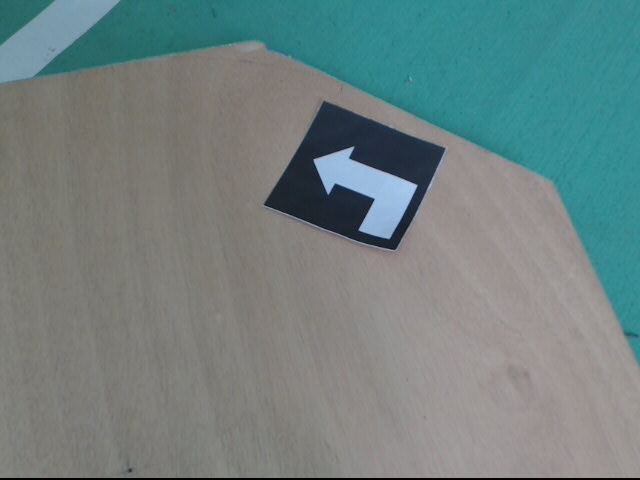left: (264, 102, 448, 255)
